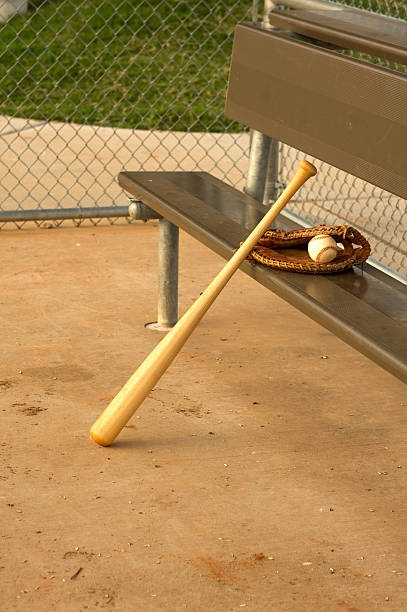bita: (91, 166, 307, 445)
